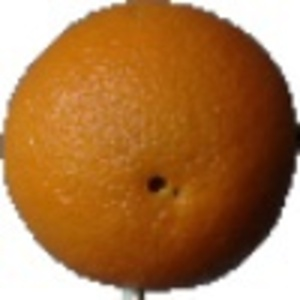laranja: (3, 3, 297, 296)
